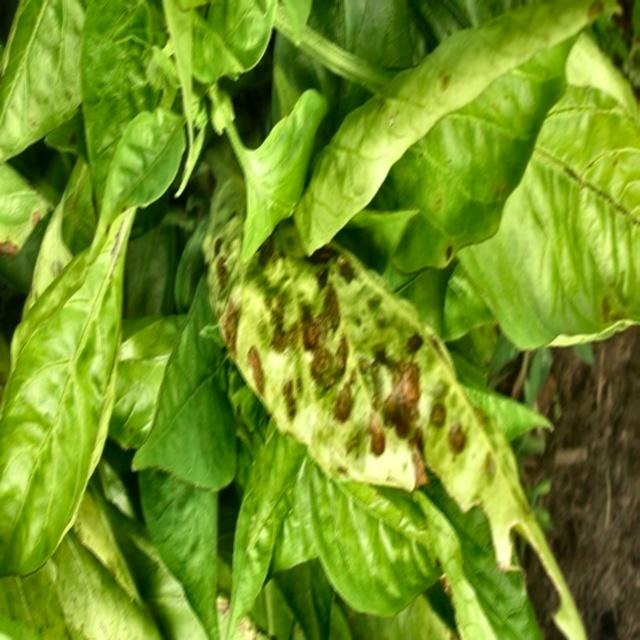leaf_spot: (153, 186, 522, 530)
